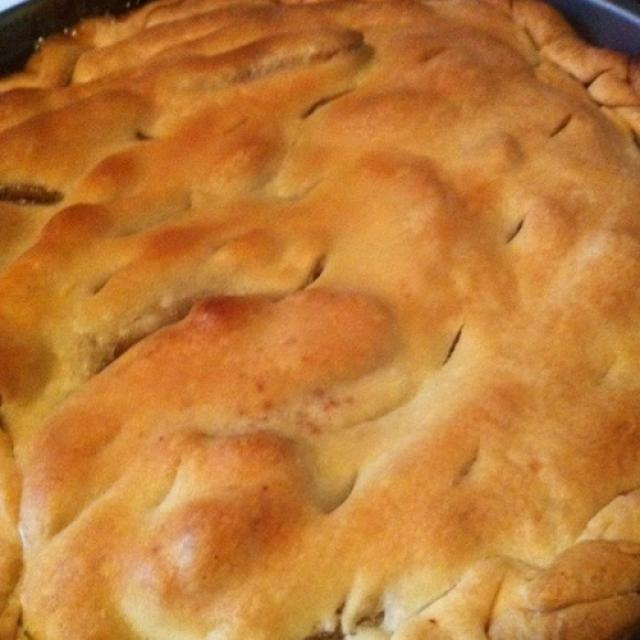炸货点心: (1, 5, 634, 631)
蛋糕甜品: (1, 5, 634, 631)
